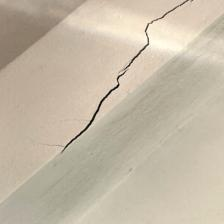Medium: (49, 8, 207, 151)
